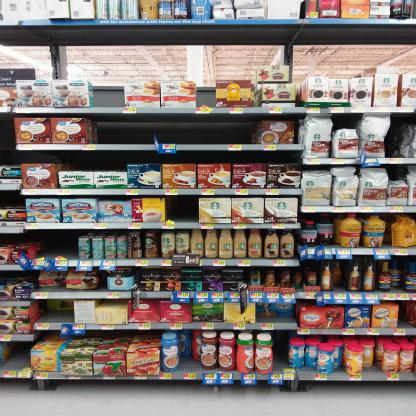Void: (95, 121, 245, 142), (131, 152, 298, 162), (42, 229, 75, 256), (34, 300, 74, 321), (180, 332, 199, 369), (167, 196, 193, 218), (97, 84, 124, 105), (62, 158, 123, 166), (2, 119, 13, 162), (272, 334, 285, 365), (390, 118, 400, 154), (10, 342, 28, 362), (196, 82, 210, 105), (335, 117, 358, 129), (26, 153, 52, 162), (392, 166, 404, 176)
